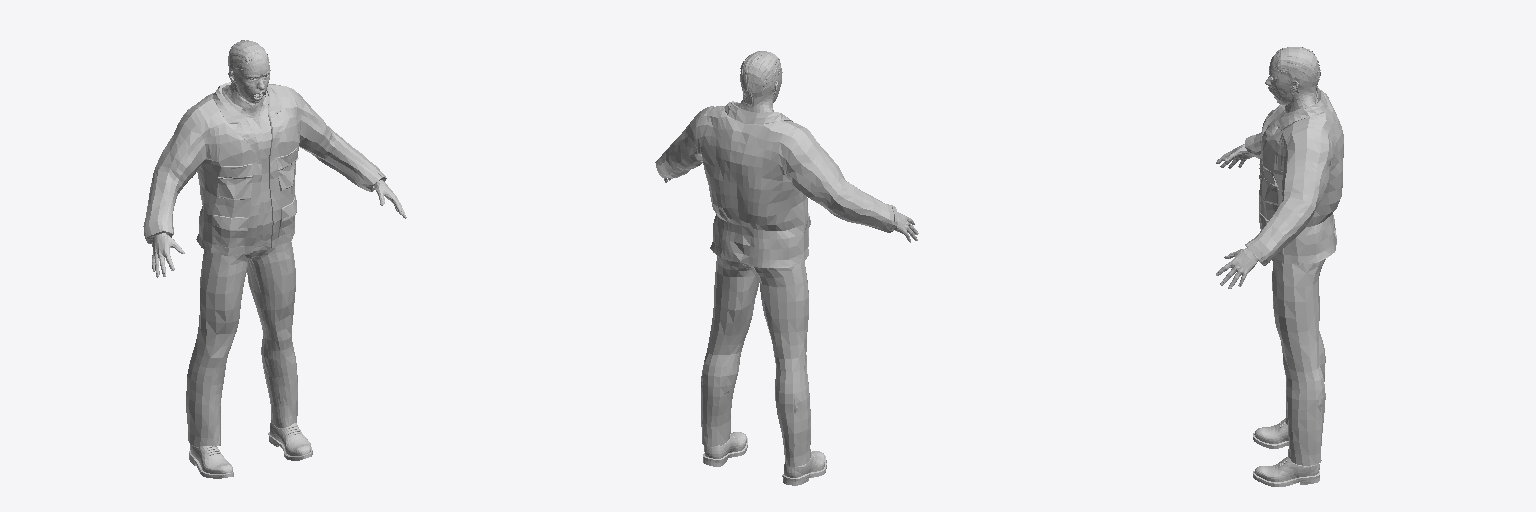
3 views of the same model, side by side, from view 1: azimuth 30°, elevation 25°; view 2: azimuth 150°, elevation 25°; view 3: azimuth 270°, elevation 25° (orthographic).
Parts seen in each view (by area): view 1: Ml1:Male_casualsuit05, Ml1:Body, Ml1:Shoes03, Ml1:Short04; view 2: Ml1:Male_casualsuit05, Ml1:Short04, Ml1:Shoes03, Ml1:Body; view 3: Ml1:Male_casualsuit05, Ml1:Body, Ml1:Shoes03, Ml1:Short04.
Boxes of the visible parts, <box> form: Ml1:Male_casualsuit05: <box>143,82,386,446</box>; Ml1:Body: <box>152,61,406,277</box>; Ml1:Shoes03: <box>189,420,312,478</box>; Ml1:Short04: <box>228,40,269,85</box>; Ml1:Male_casualsuit05: <box>655,101,898,466</box>; Ml1:Short04: <box>740,51,781,107</box>; Ml1:Shoes03: <box>703,432,826,485</box>; Ml1:Body: <box>664,72,918,242</box>; Ml1:Male_casualsuit05: <box>1245,87,1343,465</box>; Ml1:Body: <box>1216,59,1316,288</box>; Ml1:Shoes03: <box>1253,418,1319,486</box>; Ml1:Short04: <box>1272,47,1320,95</box>.
Bounding box in the file's own units: 1.31 × 2.08 × 0.5843.